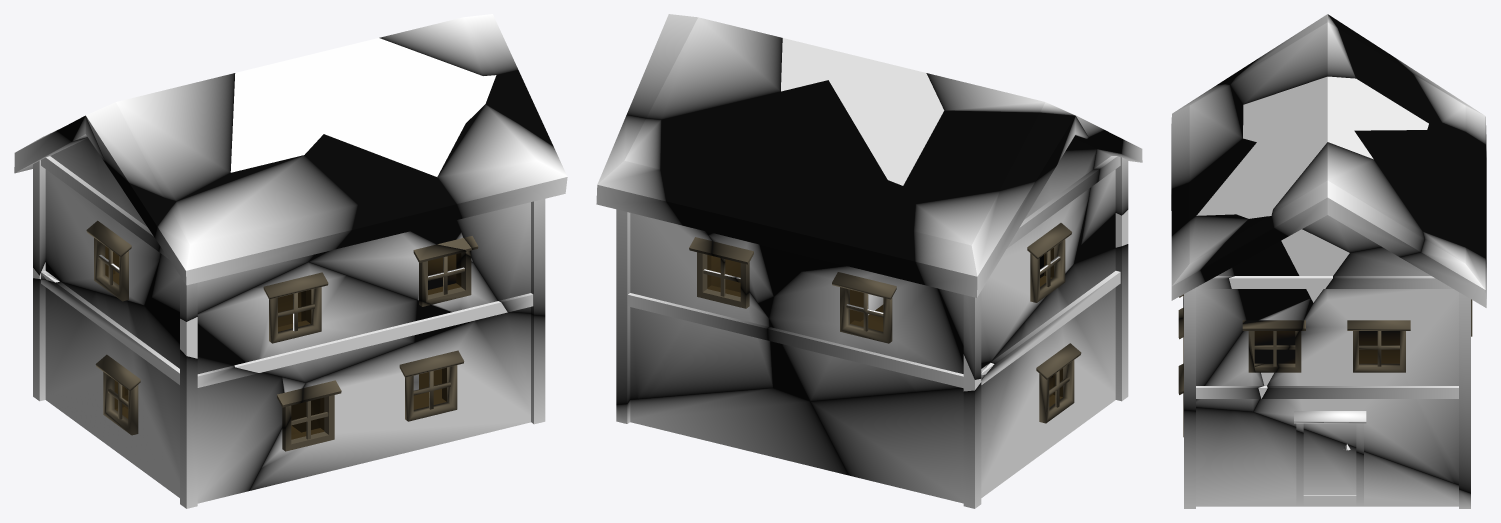
The model's file is Village_Apartment_Small_6_D.fbx.
3 renders of one model, left to right at view 1: azimuth 30°, elevation 25°; view 2: azimuth 150°, elevation 25°; view 3: azimuth 270°, elevation 25°, orthographic. The views are drawn at different scales.
Visible parts, largest first — view 1: Village_Apartment_Small_2_fracturepart2_3, Village_Apartment_Small_2_fracturepart1_4, Village_Apartment_Small_2_fracturepart16_2, Village_Apartment_Small_2_fracturepart18, Village_Apartment_Small_2_fracturepart11_4, Village_Apartment_Small_2_fracturepart5, Village_Apartment_Small_2_fracturepart13, Village_Apartment_Small_2_fracturepart8, Village_Apartment_Small_2_fracturepart7, Village_Apartment_Small_2_fracturepart10_3, Village_Apartment_Small_2_fracturepart6_2, Village_Apartment_Small_2_fracturepart14 (+23 smaller); view 2: Village_Apartment_Small_2_fracturepart2_3, Village_Apartment_Small_2_fracturepart3_3, Village_Apartment_Small_2_fracturepart15_4, Village_Apartment_Small_2_fracturepart8, Village_Apartment_Small_2_fracturepart19, Village_Apartment_Small_2_fracturepart17, Village_Apartment_Small_2_fracturepart4, Village_Apartment_Small_2_fracturepart14, Village_Apartment_Small_2_fracturepart1_4, Village_Apartment_Small_2_fracturepart7, Village_Apartment_Small_2_fracturepart13, Village_Apartment_Small_2_fracturepart15_9 (+19 smaller); view 3: Village_Apartment_Small_2_fracturepart3_3, Village_Apartment_Small_2_fracturepart1_4, Village_Apartment_Small_2_fracturepart14, Village_Apartment_Small_2_fracturepart5, Village_Apartment_Small_2_fracturepart18, Village_Apartment_Small_2_fracturepart7, Village_Apartment_Small_2_fracturepart19, Village_Apartment_Small_2_fracturepart9, Village_Apartment_Small_2_fracturepart13, Village_Apartment_Small_2_fracturepart16_2, Village_Apartment_Small_2_fracturepart4, Village_Apartment_Small_2_fracturepart17 (+24 smaller).
Boxes of the visible parts, x1,y1,x2,y2 form: Village_Apartment_Small_2_fracturepart2_3: (45, 282, 305, 503); Village_Apartment_Small_2_fracturepart1_4: (249, 312, 530, 490); Village_Apartment_Small_2_fracturepart16_2: (151, 155, 357, 313); Village_Apartment_Small_2_fracturepart18: (310, 38, 482, 176); Village_Apartment_Small_2_fracturepart11_4: (144, 262, 471, 382); Village_Apartment_Small_2_fracturepart5: (437, 104, 567, 313); Village_Apartment_Small_2_fracturepart13: (85, 73, 235, 201); Village_Apartment_Small_2_fracturepart8: (14, 128, 176, 305); Village_Apartment_Small_2_fracturepart7: (230, 55, 323, 172); Village_Apartment_Small_2_fracturepart10_3: (304, 134, 473, 289); Village_Apartment_Small_2_fracturepart6_2: (309, 205, 497, 312); Village_Apartment_Small_2_fracturepart14: (379, 14, 518, 75); Village_Apartment_Small_2_fracturepart2_3: (810, 248, 1115, 503); Village_Apartment_Small_2_fracturepart3_3: (596, 115, 772, 399); Village_Apartment_Small_2_fracturepart15_4: (769, 180, 990, 401); Village_Apartment_Small_2_fracturepart8: (913, 130, 1123, 363); Village_Apartment_Small_2_fracturepart19: (739, 80, 887, 296); Village_Apartment_Small_2_fracturepart17: (660, 93, 777, 317); Village_Apartment_Small_2_fracturepart4: (903, 110, 1088, 203); Village_Apartment_Small_2_fracturepart14: (626, 14, 782, 119); Village_Apartment_Small_2_fracturepart1_4: (630, 388, 848, 475); Village_Apartment_Small_2_fracturepart7: (828, 54, 944, 185); Village_Apartment_Small_2_fracturepart13: (926, 73, 1104, 137); Village_Apartment_Small_2_fracturepart15_9: (767, 327, 963, 388); Village_Apartment_Small_2_fracturepart3_3: (1253, 231, 1486, 484); Village_Apartment_Small_2_fracturepart1_4: (1196, 407, 1458, 506); Village_Apartment_Small_2_fracturepart14: (1271, 142, 1424, 257); Village_Apartment_Small_2_fracturepart5: (1171, 214, 1264, 411); Village_Apartment_Small_2_fracturepart18: (1196, 110, 1373, 215); Village_Apartment_Small_2_fracturepart7: (1243, 76, 1428, 142); Village_Apartment_Small_2_fracturepart19: (1354, 130, 1486, 238); Village_Apartment_Small_2_fracturepart9: (1200, 216, 1313, 320); Village_Apartment_Small_2_fracturepart13: (1230, 14, 1355, 104); Village_Apartment_Small_2_fracturepart16_2: (1171, 84, 1243, 194); Village_Apartment_Small_2_fracturepart4: (1328, 14, 1441, 123); Village_Apartment_Small_2_fracturepart17: (1376, 161, 1486, 266).
Size of the model in its own units: 1215 by 997 by 873.
